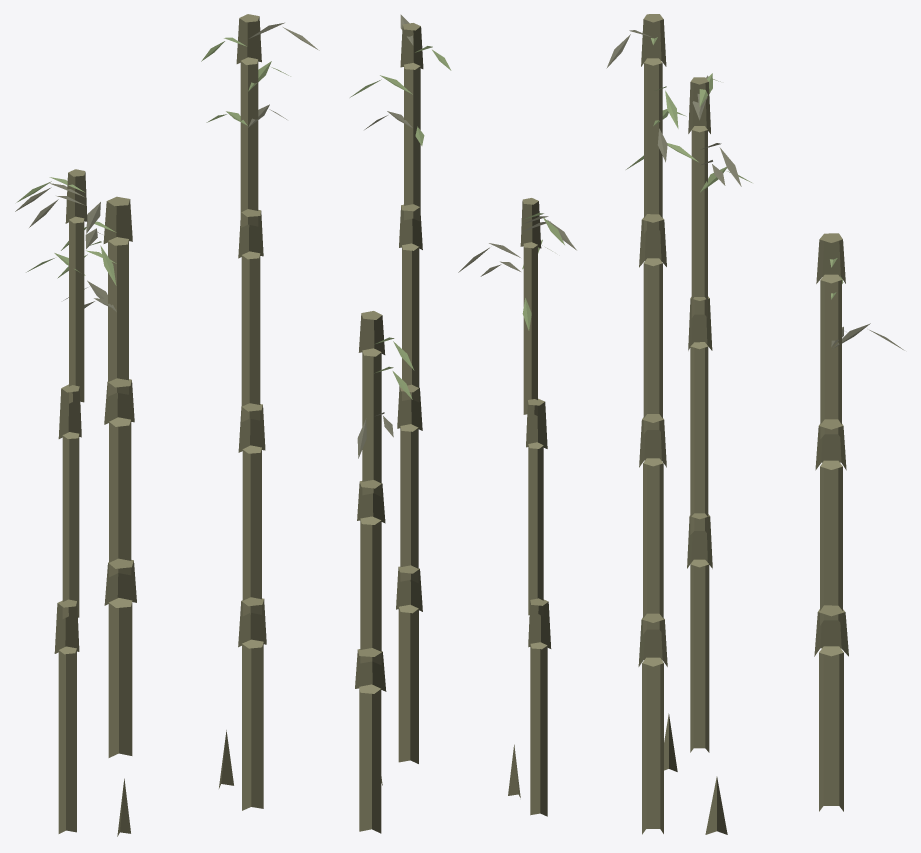
File: shu.maozhu__winter.glb
The picture shows the model from 3 angles, left to right: view 1: azimuth 30°, elevation 25°; view 2: azimuth 150°, elevation 25°; view 3: azimuth 270°, elevation 25°; orthographic projection. The views are drawn at different scales.
Parts seen in each view (by area): view 1: shu.maozhu__winter; view 2: shu.maozhu__winter; view 3: shu.maozhu__winter.
Boxes of the visible parts, bbox=[...] form: shu.maozhu__winter: bbox=[15, 14, 319, 836]; shu.maozhu__winter: bbox=[350, 14, 576, 833]; shu.maozhu__winter: bbox=[606, 14, 904, 834].
Size of the model in its own units: 3.12 by 9.07 by 3.03.
